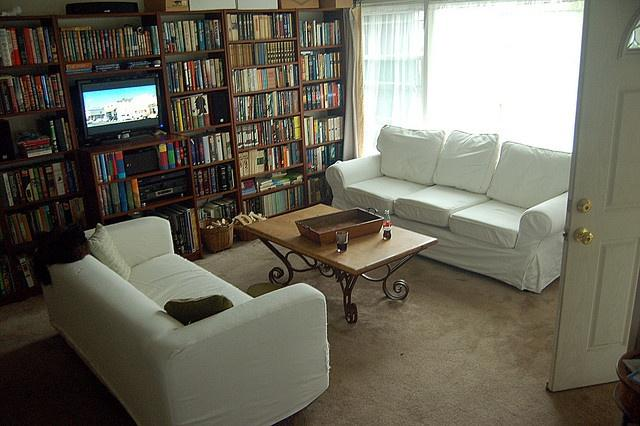AIO PC-Monitor-TV: (76, 73, 164, 144)
Meja: (243, 203, 438, 285)
